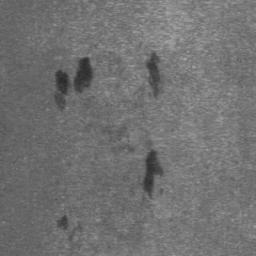Iron scale compression: (144, 150, 162, 197), (144, 51, 161, 95), (74, 57, 93, 92), (54, 70, 67, 109), (57, 217, 70, 229)
